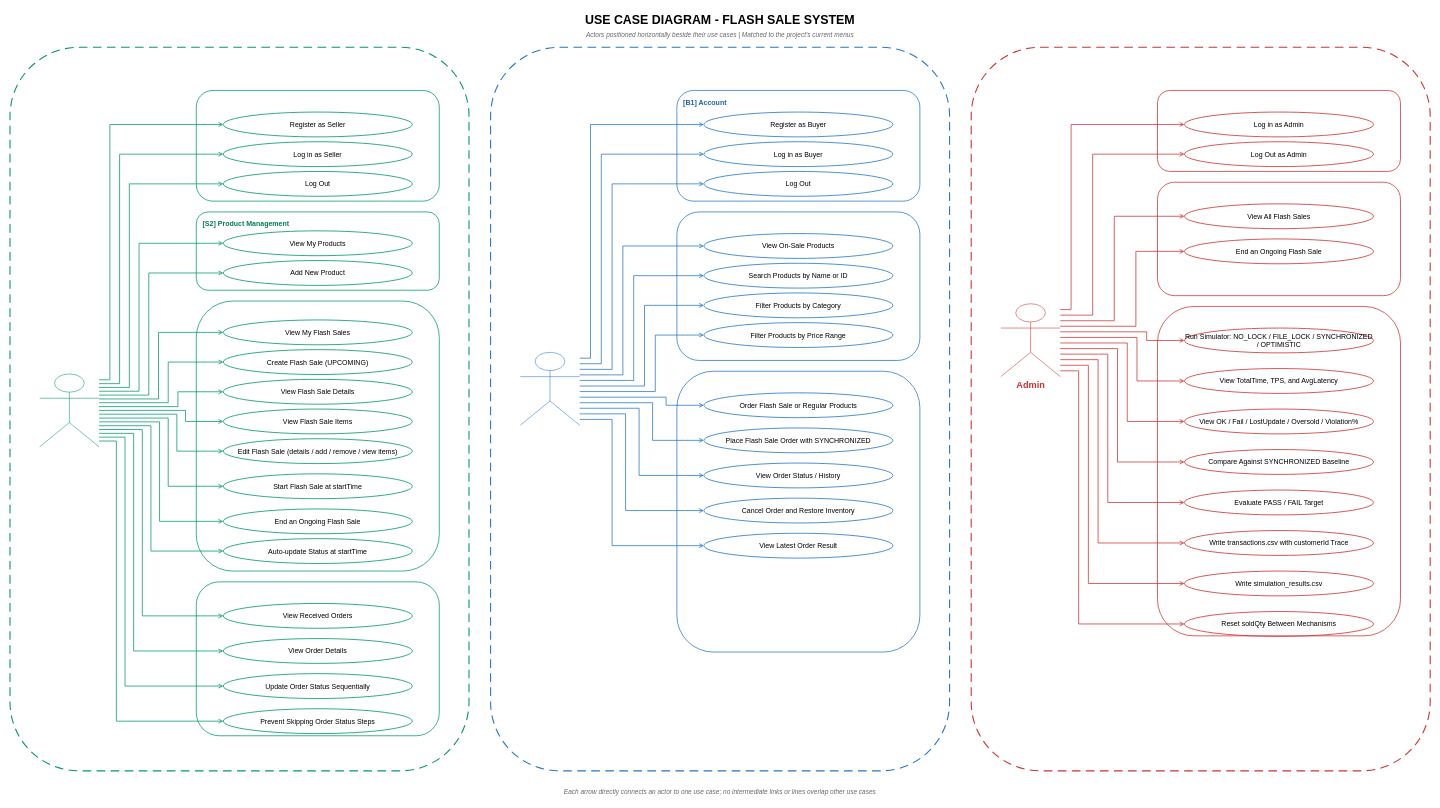
The diagram is 1440 pixels wide and 808 high, and some of its shapes have lost their labels. The box of each missing label's shape, as (x1, y1, x2, y2) in pixels:
[A1] Admin Authentication: (1157, 90, 1401, 172)
[A2] Flash Sale Administration: (1157, 182, 1401, 296)
[A3] Four-Locking-Mechanism Simulator: (1157, 306, 1401, 636)
[B2] Product Discovery: (676, 211, 920, 361)
[B3] Order Placement and Management: (676, 371, 920, 652)
[S1] Account: (196, 90, 439, 201)
[S3] Flash Sale Management: (196, 300, 439, 571)
[S4] Received Order Management: (196, 581, 439, 736)
ADMIN AREA: (970, 46, 1430, 771)
Buyer: (520, 352, 580, 425)
BUYER AREA: (490, 46, 950, 771)
Seller: (39, 373, 99, 447)
SELLER AREA: (9, 46, 469, 771)
